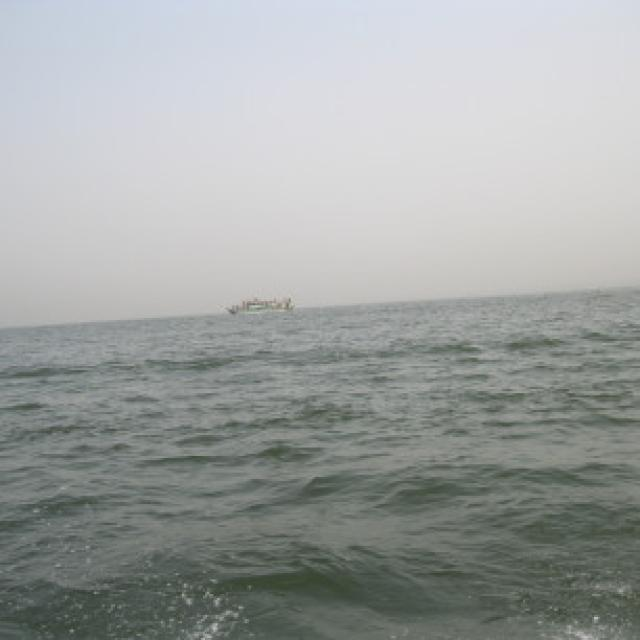fishing boat: (224, 280, 302, 318)
